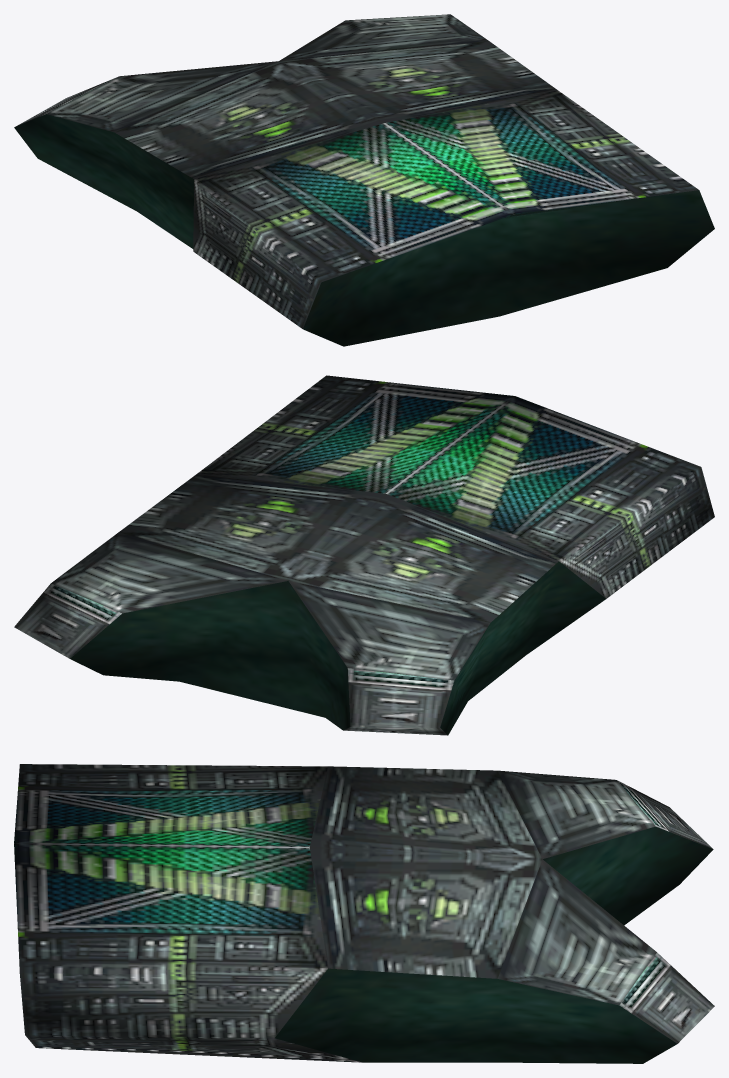
File: TorsoArmour4__VTX.glb
3 renders of one model, top to bottom at view 1: azimuth 30°, elevation 25°; view 2: azimuth 150°, elevation 25°; view 3: azimuth 270°, elevation 25°, orthographic. The views are drawn at different scales.
Parts seen in each view (by area): view 1: TorsoArmour4; view 2: TorsoArmour4; view 3: TorsoArmour4.
Boxes of the visible parts, x1=… form: TorsoArmour4: x1=14, y1=14, x2=714, y2=346; TorsoArmour4: x1=14, y1=375, x2=714, y2=735; TorsoArmour4: x1=14, y1=764, x2=714, y2=1063.
Size of the model in its own units: 20.19 by 5.52 by 25.26.
Materials: 1 (1 with a texture image).
